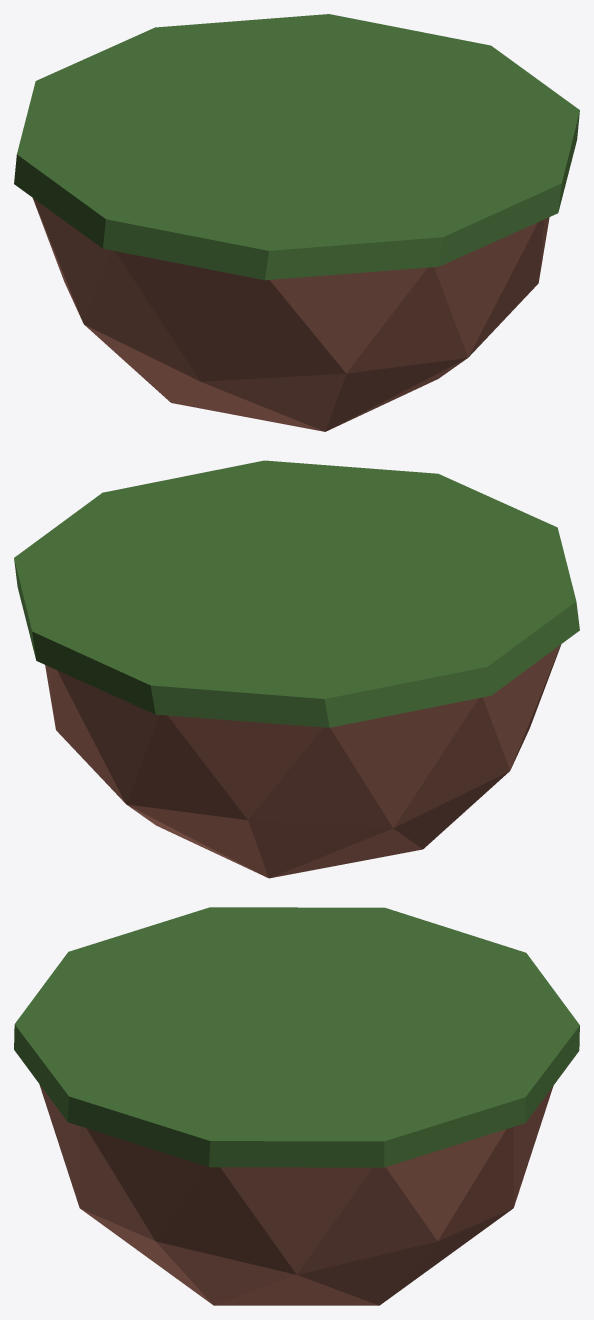
Rendered from 01_03Island_Green.fbx.
3 renders of one model, top to bottom at view 1: azimuth 30°, elevation 25°; view 2: azimuth 150°, elevation 25°; view 3: azimuth 270°, elevation 25°, orthographic.
Parts seen in each view (by area): view 1: Icosphere.018; view 2: Icosphere.018; view 3: Icosphere.018.
Part boxes in pixels (box(x1,y1,x2,y2)): Icosphere.018: box(14, 14, 579, 431); Icosphere.018: box(14, 460, 579, 878); Icosphere.018: box(14, 907, 579, 1305).
Size of the model in its own units: 405 by 227 by 424.
